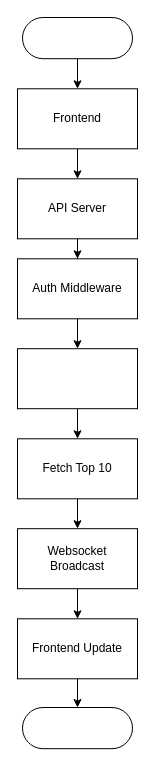
Some shapes in this 155 by 767 pixel diagram are drawn without their labels. The shapes that lost their labels are listed below. From the top down, each one's centre as x and y in pixels, then its label:
At [77,37]: "User Action".
At [77,378]: "Database".
At [77,727]: "End".
